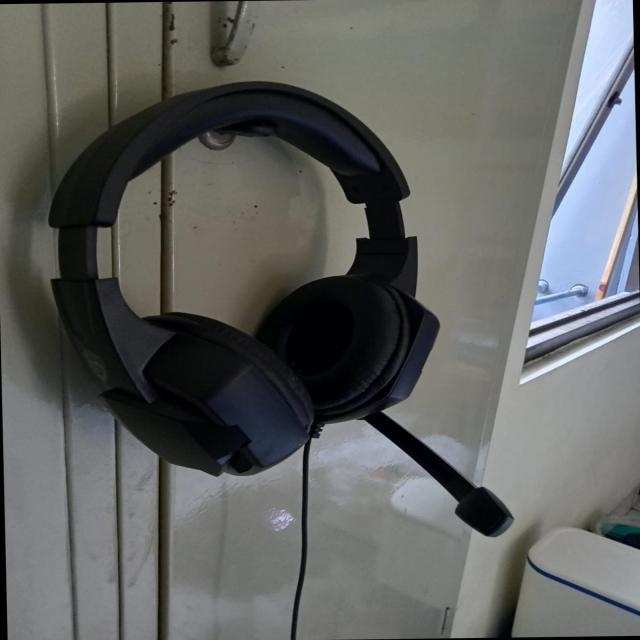earphone: (27, 68, 544, 578)
